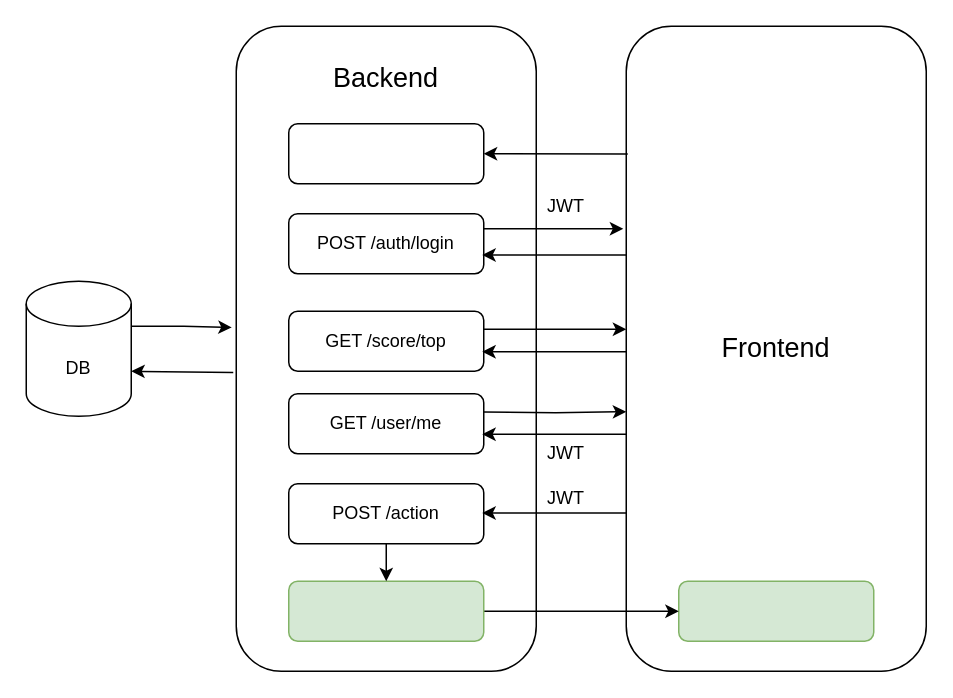
The diagram is 953 pixels wide and 698 high, and some of its shapes have lost their labels. The box of each missing label's shape, as (x1, y1, x2, y2) in pixels:
Broadcast TOP_SCORES: (287, 580, 484, 641)
Listen TOP_SCORES: (677, 580, 874, 641)
POST /auth/register: (287, 122, 484, 184)
